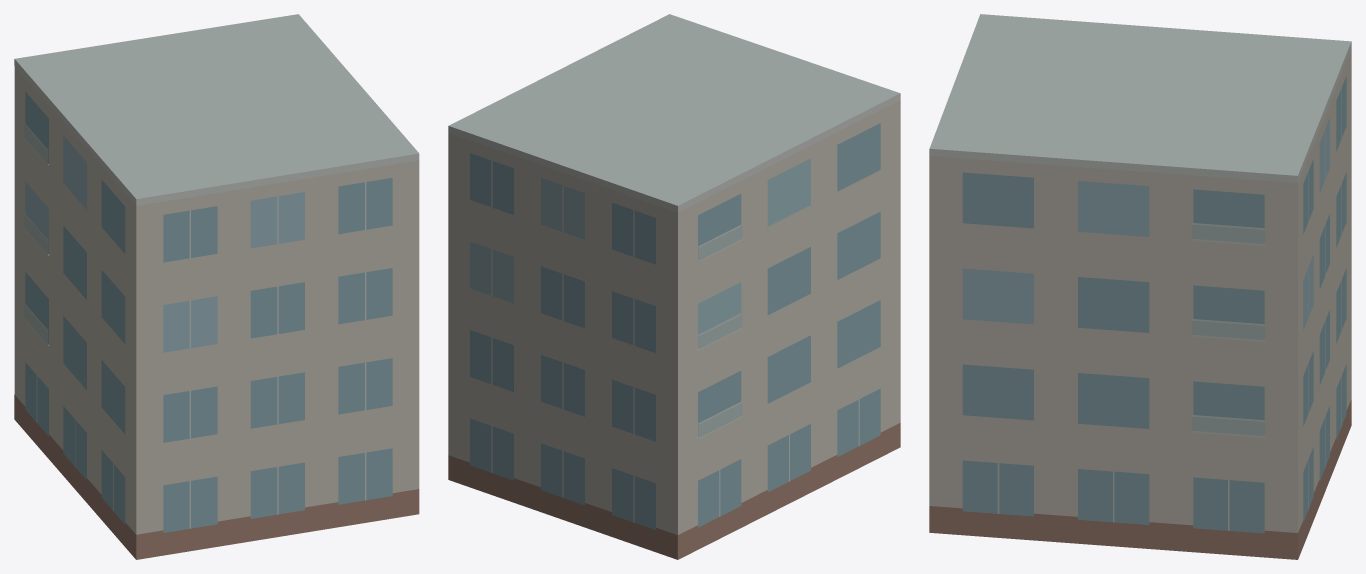
Rendered from survey-upis-32745210.glb.
The picture shows the model from 3 angles, left to right: view 1: azimuth 30°, elevation 25°; view 2: azimuth 150°, elevation 25°; view 3: azimuth 270°, elevation 25°; orthographic projection. The views are drawn at different scales.
Visible parts, largest first — view 1: survey-upis-32745210.tmp; view 2: survey-upis-32745210.tmp; view 3: survey-upis-32745210.tmp.
Part boxes in pixels (box(x1,y1,x2,y2)): survey-upis-32745210.tmp: box(14, 14, 419, 559); survey-upis-32745210.tmp: box(448, 14, 900, 559); survey-upis-32745210.tmp: box(929, 14, 1351, 559).
Size of the model in its own units: 11.67 by 12.9 by 12.86.
